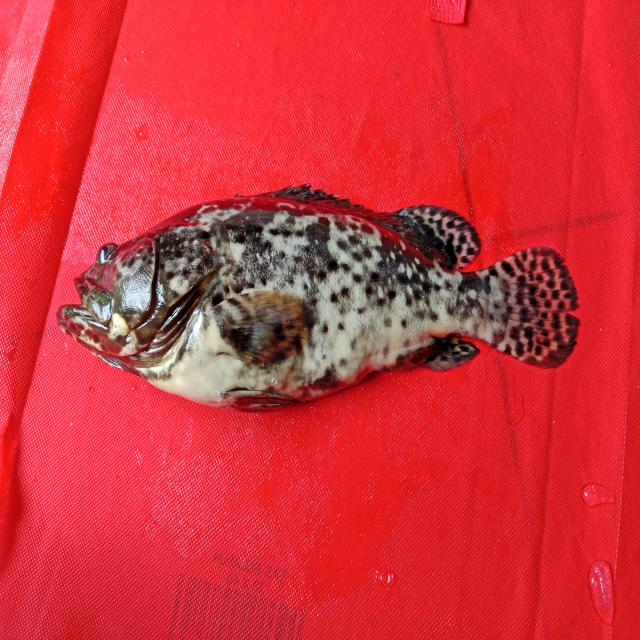ikan: (51, 159, 590, 427)
